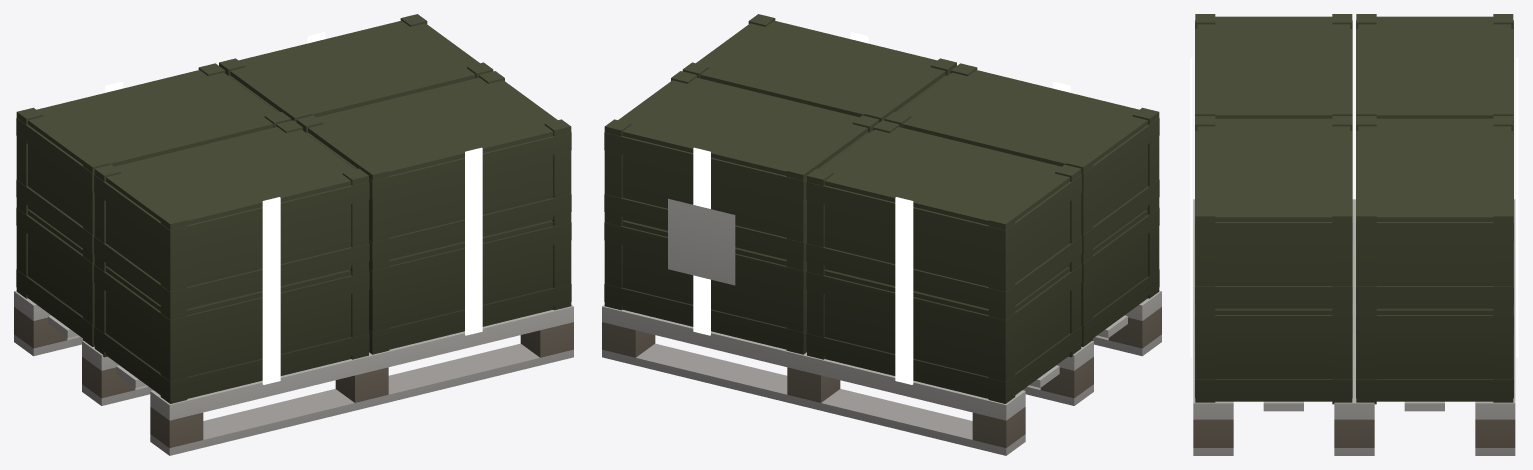
Rendered from ammo_pallet.glb.
3 views of the same model, side by side, from view 1: azimuth 30°, elevation 25°; view 2: azimuth 150°, elevation 25°; view 3: azimuth 270°, elevation 25° (orthographic). The views are drawn at different scales.
Visible parts, largest first — view 1: ammo_pallet_LOD0; view 2: ammo_pallet_LOD0; view 3: ammo_pallet_LOD0.
Part boxes in pixels (x1,y1,x2,y2): ammo_pallet_LOD0: [14, 14, 573, 455]; ammo_pallet_LOD0: [602, 14, 1161, 455]; ammo_pallet_LOD0: [1190, 14, 1518, 455].
Size of what is drawn, in the model's own units: 1.2 by 0.66 by 0.8155.
